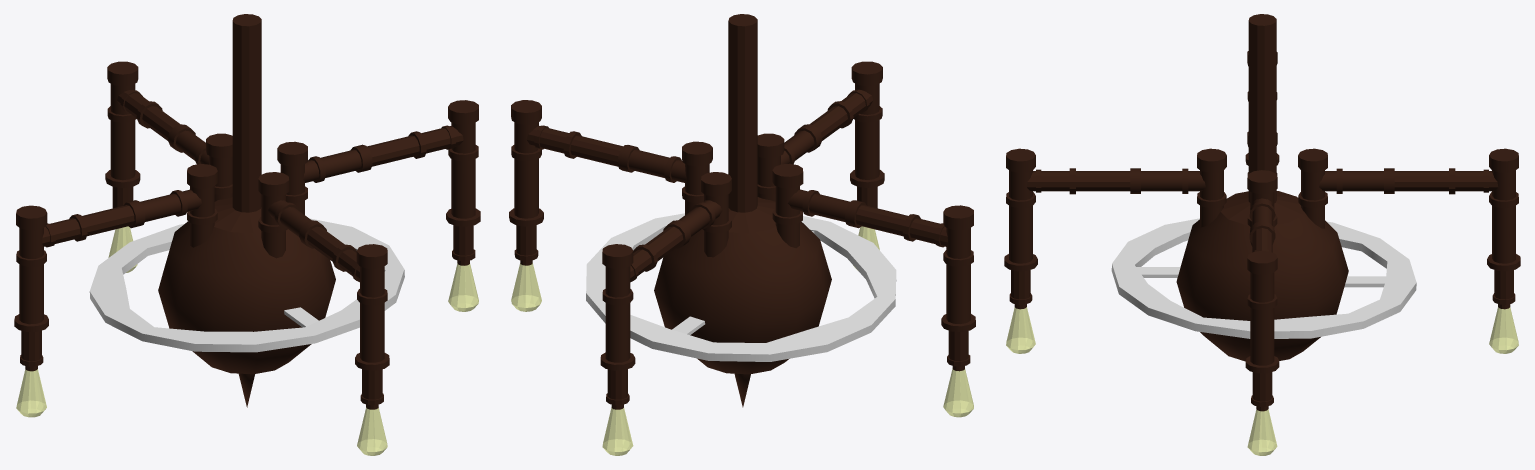
File: Modé_Lustre.FBX
The picture shows the model from 3 angles, left to right: view 1: azimuth 30°, elevation 25°; view 2: azimuth 150°, elevation 25°; view 3: azimuth 270°, elevation 25°; orthographic projection. The views are drawn at different scales.
Visible parts, largest first — view 1: Sphere001, Cylinder002, Cylinder003, RingWave001; view 2: Sphere001, Cylinder002, Cylinder003, RingWave001; view 3: Cylinder003, Sphere001, RingWave001, Cylinder002.
Boxes of the visible parts, left/top/right/bottom form: Sphere001: left=158, top=14, right=335, bottom=407; Cylinder002: left=14, top=100, right=480, bottom=417; Cylinder003: left=105, top=61, right=389, bottom=455; RingWave001: left=89, top=218, right=404, bottom=352; Sphere001: left=654, top=14, right=831, bottom=407; Cylinder002: left=509, top=100, right=975, bottom=417; Cylinder003: left=600, top=61, right=884, bottom=455; RingWave001: left=586, top=213, right=896, bottom=361; Cylinder003: left=1004, top=148, right=1520, bottom=353; Sphere001: left=1176, top=14, right=1348, bottom=361; RingWave001: left=1111, top=218, right=1416, bottom=338; Cylinder002: left=1245, top=51, right=1279, bottom=455.
Bounding box in the file's own units: 34.94 × 28.04 × 34.94.
